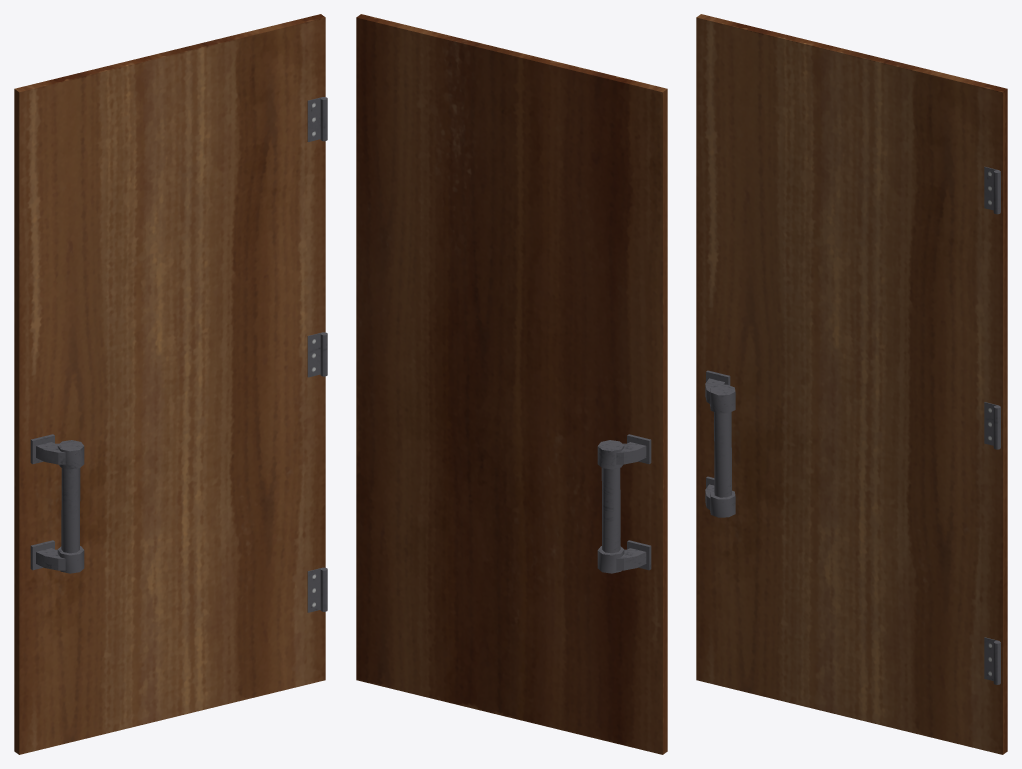
Rendered from door.glb.
The picture shows the model from 3 angles, left to right: view 1: azimuth 30°, elevation 25°; view 2: azimuth 150°, elevation 25°; view 3: azimuth 330°, elevation 25°; orthographic projection.
Visible parts, largest first — view 1: Door; view 2: Door; view 3: Door.
Boxes of the visible parts, box(x1,y1,x2,y2) form: Door: box(14, 14, 327, 754); Door: box(356, 14, 667, 754); Door: box(696, 14, 1007, 754).
Size of the model in its own units: 1.86 by 3.84 by 0.4546.
1 material, 1 textured.
